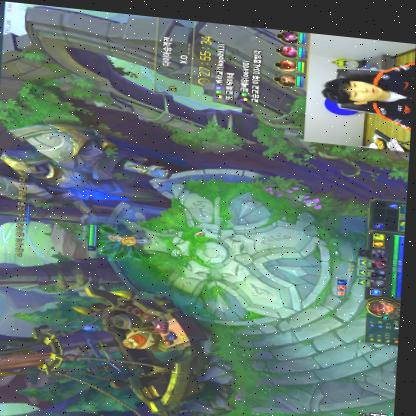streamer: (320, 43, 415, 122)
